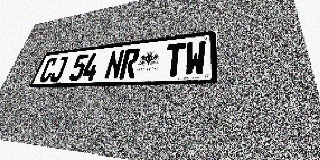4: (81, 52, 102, 81)
5: (68, 54, 89, 81)
C: (38, 57, 58, 82)
J: (48, 56, 69, 82)
N: (103, 50, 125, 80)
R: (119, 48, 141, 79)
T: (163, 43, 186, 77)
W: (184, 40, 206, 76)
